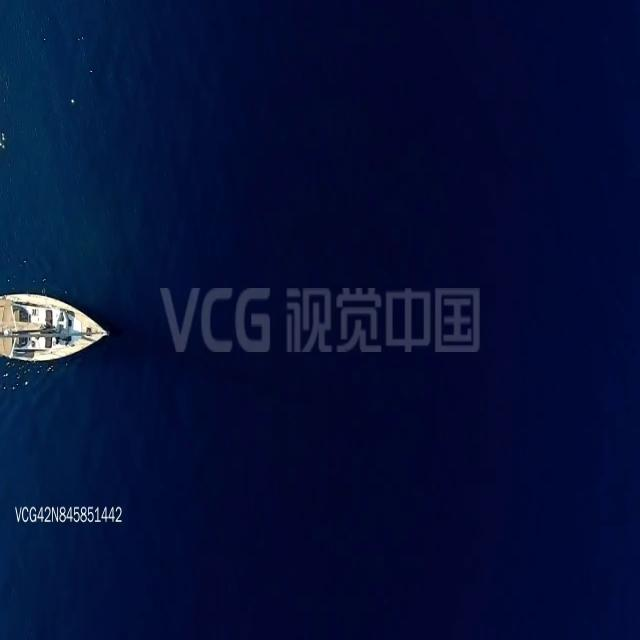sailboat: (0, 288, 109, 366)
